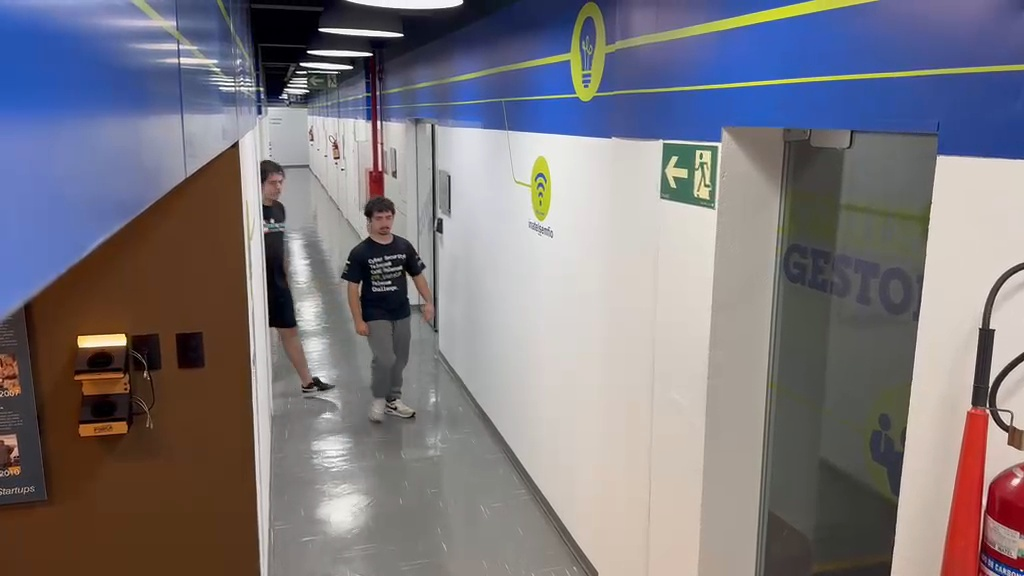person: (340, 197, 433, 419), (259, 161, 331, 394)
